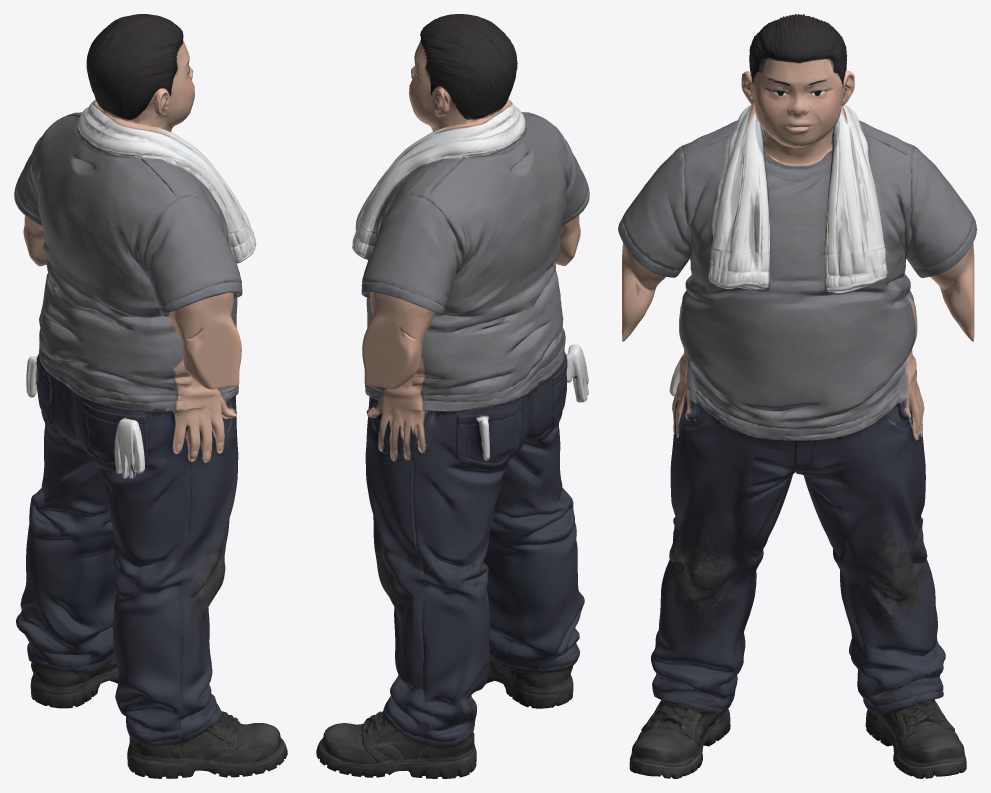
The model's file is naengjanggo_tripo.glb.
3 views of the same model, side by side, from view 1: azimuth 30°, elevation 25°; view 2: azimuth 150°, elevation 25°; view 3: azimuth 270°, elevation 25° (orthographic). The views are drawn at different scales.
Parts seen in each view (by area): view 1: tripo_node_5e9c2d75-d710-4cb8-b3f8-b6bc4e9c5272; view 2: tripo_node_5e9c2d75-d710-4cb8-b3f8-b6bc4e9c5272; view 3: tripo_node_5e9c2d75-d710-4cb8-b3f8-b6bc4e9c5272.
Boxes of the visible parts, box(x1,y1,x2,y2) form: tripo_node_5e9c2d75-d710-4cb8-b3f8-b6bc4e9c5272: box(14, 14, 287, 778); tripo_node_5e9c2d75-d710-4cb8-b3f8-b6bc4e9c5272: box(316, 14, 589, 778); tripo_node_5e9c2d75-d710-4cb8-b3f8-b6bc4e9c5272: box(618, 14, 976, 778).
Bounding box in the file's own units: 0.2363 × 0.9804 × 0.4374.
1 material, 1 textured.
